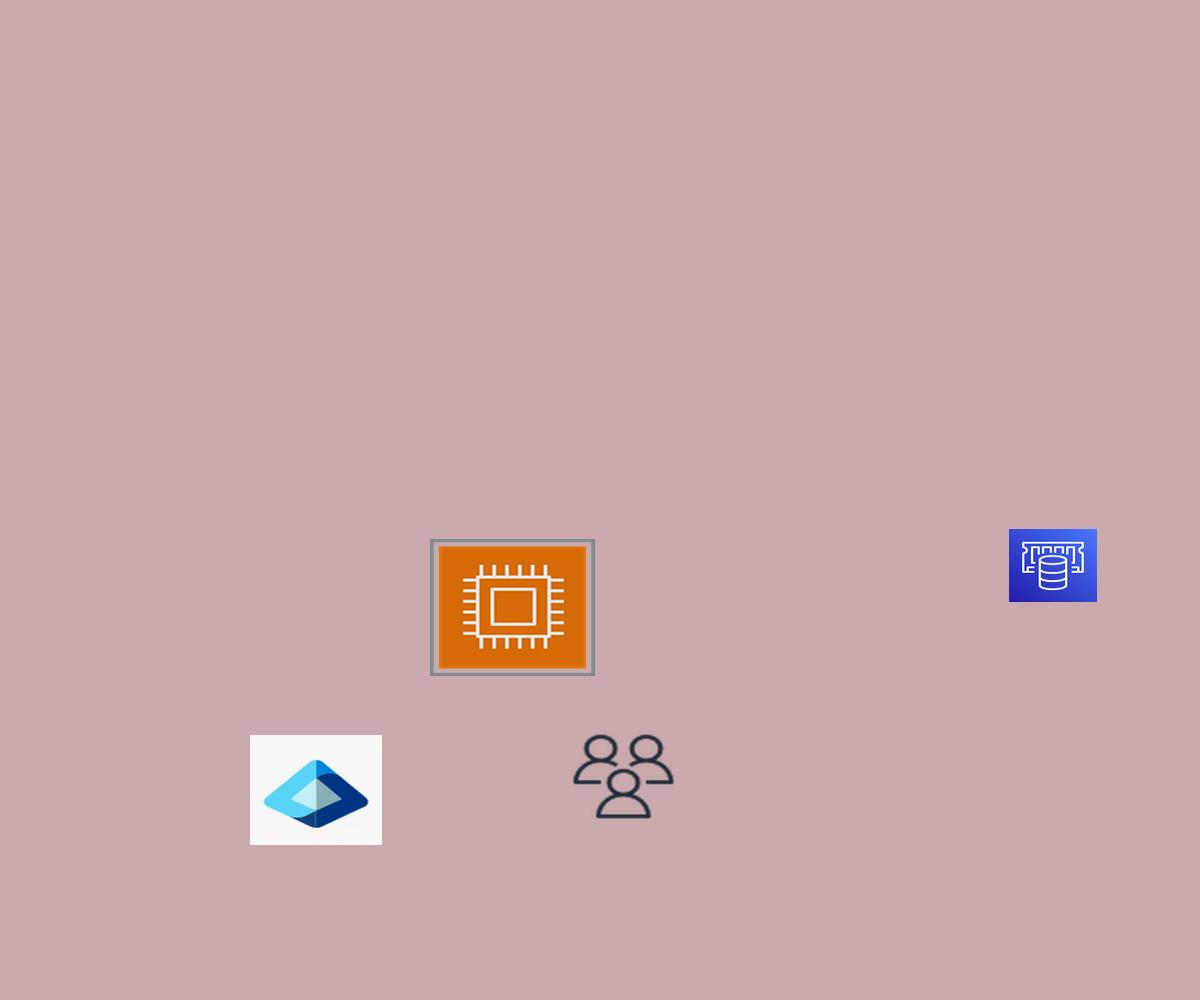AWS-Category_Compute: (430, 539, 595, 676)
AWS-ElastiCache: (1009, 529, 1097, 602)
AWS-Res_Users: (569, 731, 678, 822)
Azure_microsoft_entra: (250, 735, 382, 845)
